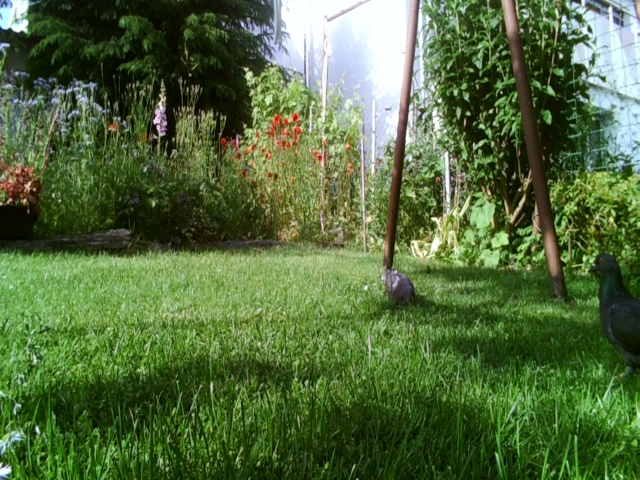Pigeon: (584, 247, 640, 366), (372, 256, 429, 312)
